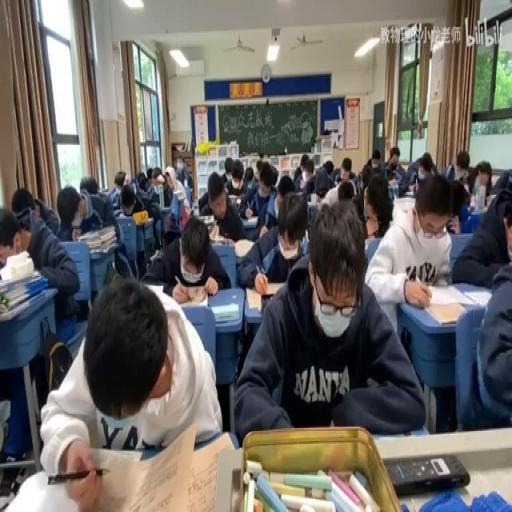calculator: (0, 468, 90, 510), (426, 301, 464, 323), (210, 300, 238, 322), (460, 287, 492, 306), (177, 288, 208, 306), (233, 236, 254, 258), (394, 193, 414, 215), (210, 233, 232, 246), (480, 192, 494, 209), (242, 213, 258, 226), (198, 213, 214, 225), (145, 180, 157, 194), (308, 192, 318, 205), (227, 195, 240, 205), (96, 186, 110, 195), (140, 216, 153, 225), (118, 209, 128, 219), (405, 186, 414, 196)
paper: (233, 200, 421, 440), (41, 272, 219, 502), (2, 194, 80, 327), (144, 212, 227, 296), (451, 176, 512, 290), (71, 179, 126, 262), (357, 172, 395, 243), (118, 181, 157, 250), (241, 164, 278, 234), (196, 162, 227, 215), (404, 148, 435, 192), (224, 158, 249, 203), (360, 148, 386, 183), (447, 180, 466, 220), (489, 168, 512, 198), (173, 160, 192, 194), (390, 164, 410, 194), (275, 175, 294, 196), (466, 168, 480, 195), (78, 174, 98, 192), (338, 179, 354, 199), (454, 150, 469, 170), (150, 165, 164, 186), (242, 165, 254, 185), (108, 186, 120, 205), (114, 171, 126, 189), (299, 152, 309, 172), (292, 165, 302, 185), (443, 161, 454, 179), (254, 158, 262, 182), (136, 171, 146, 189), (389, 148, 399, 165), (322, 160, 332, 176), (480, 175, 490, 189), (164, 175, 173, 189), (315, 188, 326, 199), (342, 161, 350, 175), (146, 165, 152, 181)
person: (384, 452, 470, 494), (260, 292, 275, 314)
